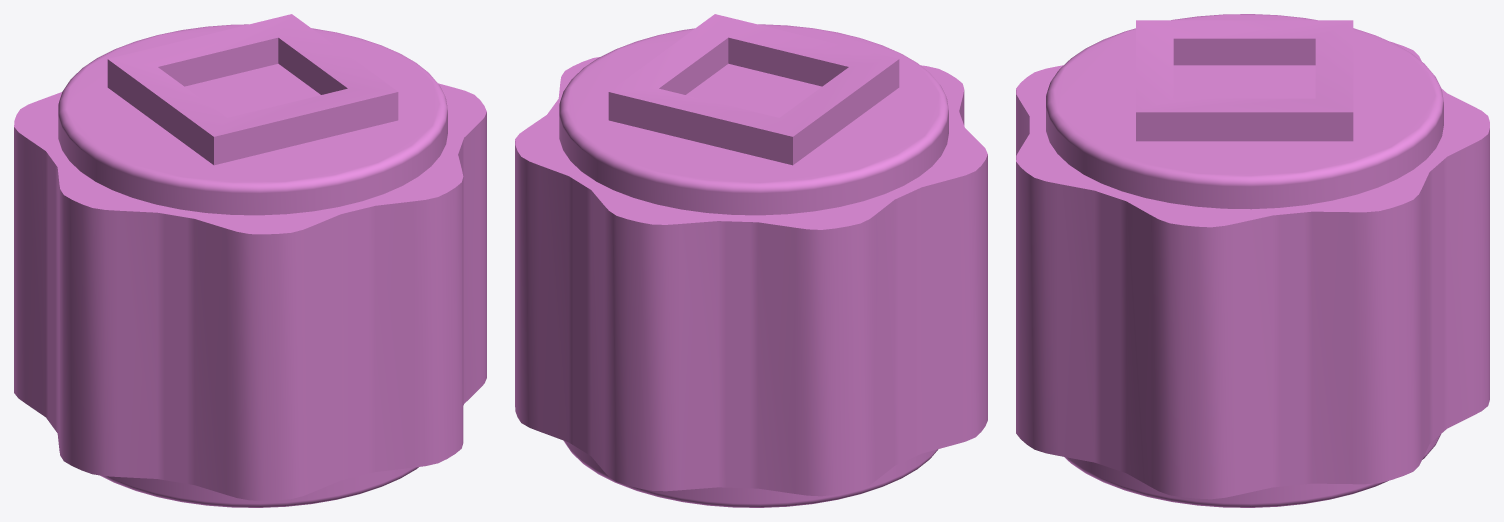
The model's file is quadrat-st2.glb.
3 views of the same model, side by side, from view 1: azimuth 30°, elevation 25°; view 2: azimuth 150°, elevation 25°; view 3: azimuth 270°, elevation 25° (orthographic). The views are drawn at different scales.
Parts seen in each view (by area): view 1: Object_2; view 2: Object_2; view 3: Object_2.
Boxes of the visible parts, box(x1,y1,x2,y2) form: Object_2: box(14, 14, 486, 507); Object_2: box(515, 14, 987, 507); Object_2: box(1016, 14, 1489, 507).
Bounding box in the file's own units: 21.45 × 17.61 × 20.99.
